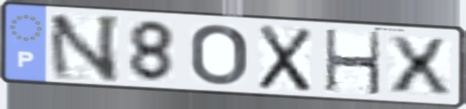8: (125, 18, 178, 85)
H: (322, 27, 384, 98)
N: (45, 14, 123, 84)
O: (188, 22, 251, 87)
X: (385, 34, 455, 96), (256, 23, 315, 95)
